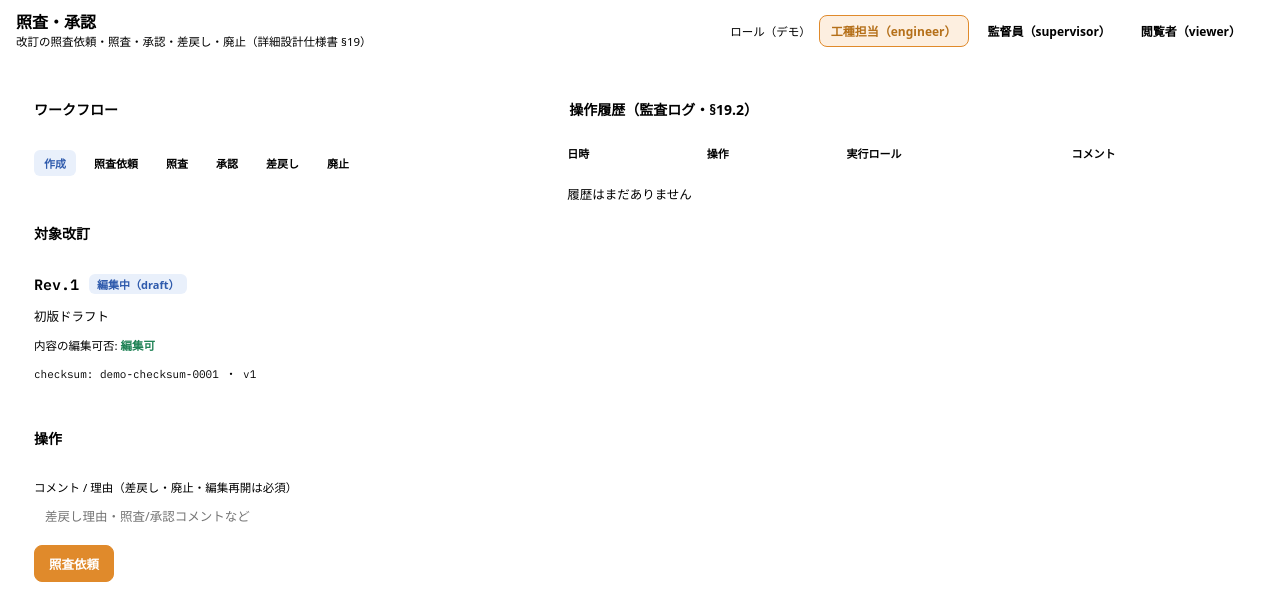
Test: ReviewApprovalPage › viewer は現状態のアクションがすべて不活性になる
Click the button "閲覧者（viewer）": (1191, 31) [1130,16,1252,46]
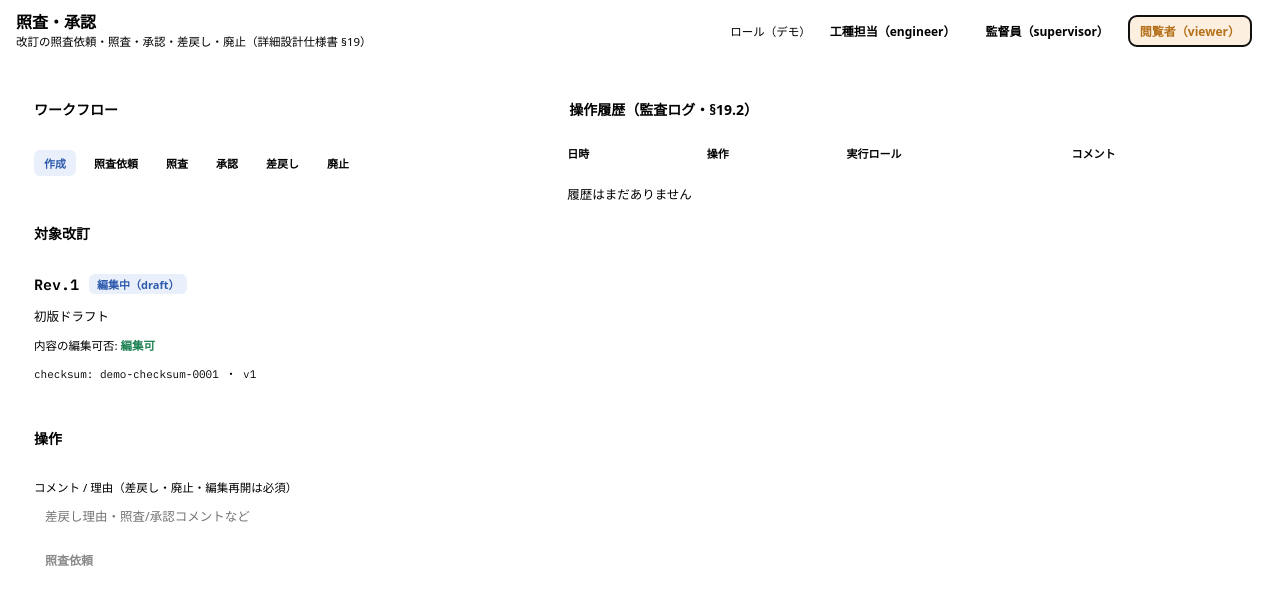
Expected: the button "照査依頼" is disabled, [34,545,104,575]
